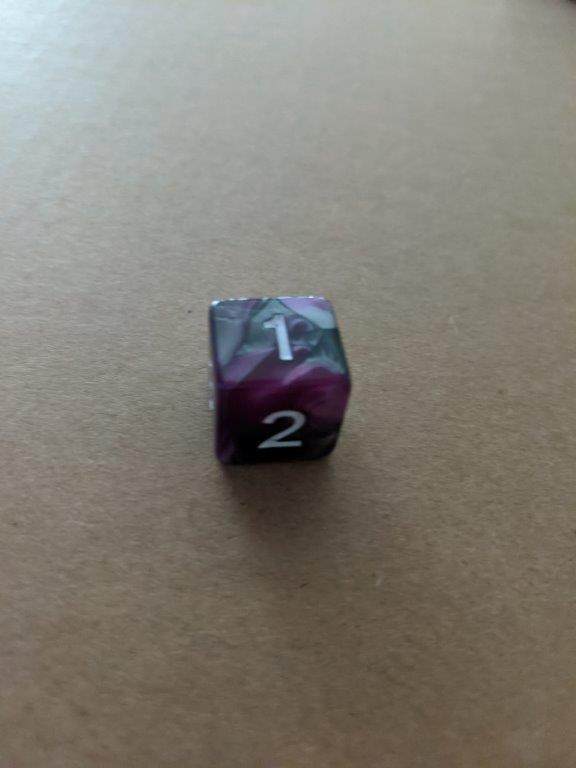d6-1: (203, 296, 353, 468)
